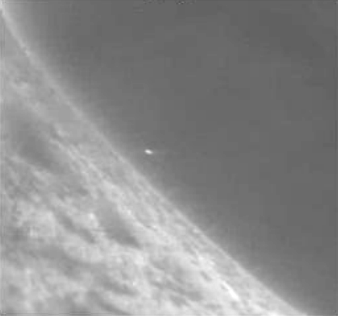dim target: (144, 148, 152, 155)
